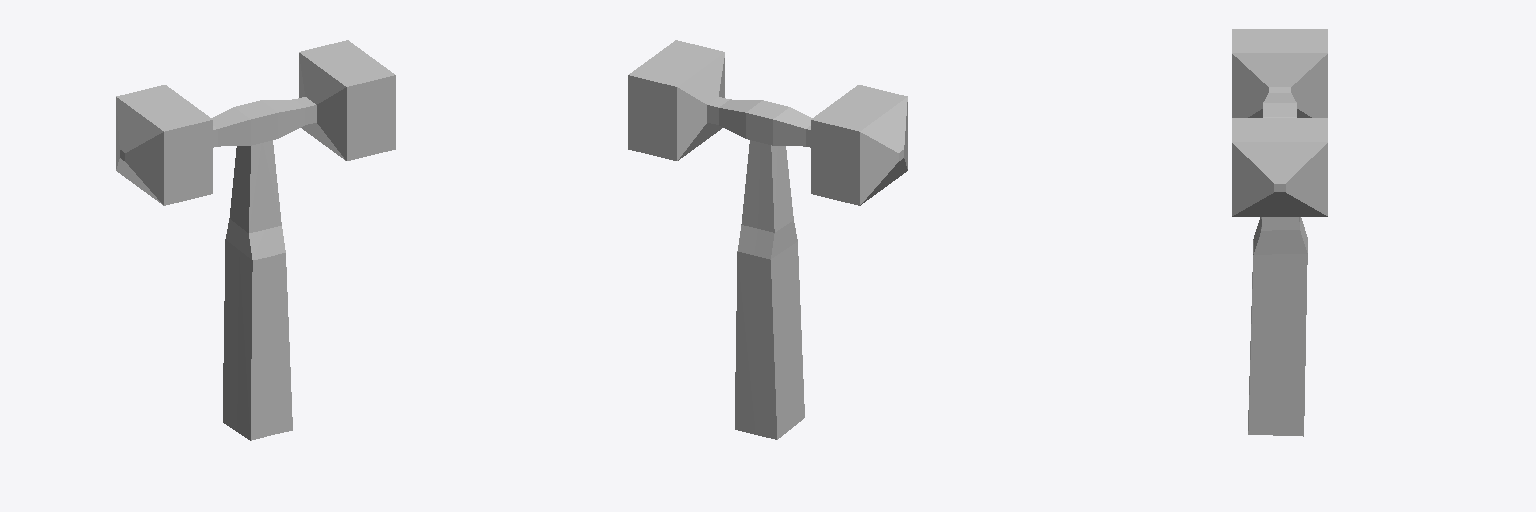
The model's file is Hammer UV texture.obj.
The picture shows the model from 3 angles: view 1: azimuth 30°, elevation 25°; view 2: azimuth 150°, elevation 25°; view 3: azimuth 270°, elevation 25°; orthographic projection.
Visible parts, largest first — view 1: pCube2, pCube1; view 2: pCube2, pCube1; view 3: pCube2, pCube1.
Boxes of the visible parts, x1,y1,x2,y2 form: pCube2: [116, 40, 395, 205]; pCube1: [223, 140, 292, 440]; pCube2: [628, 40, 907, 205]; pCube1: [735, 140, 804, 439]; pCube2: [1232, 29, 1327, 216]; pCube1: [1248, 217, 1307, 436].
Bounding box in the file's own units: 10.62 × 12.94 × 3.31.